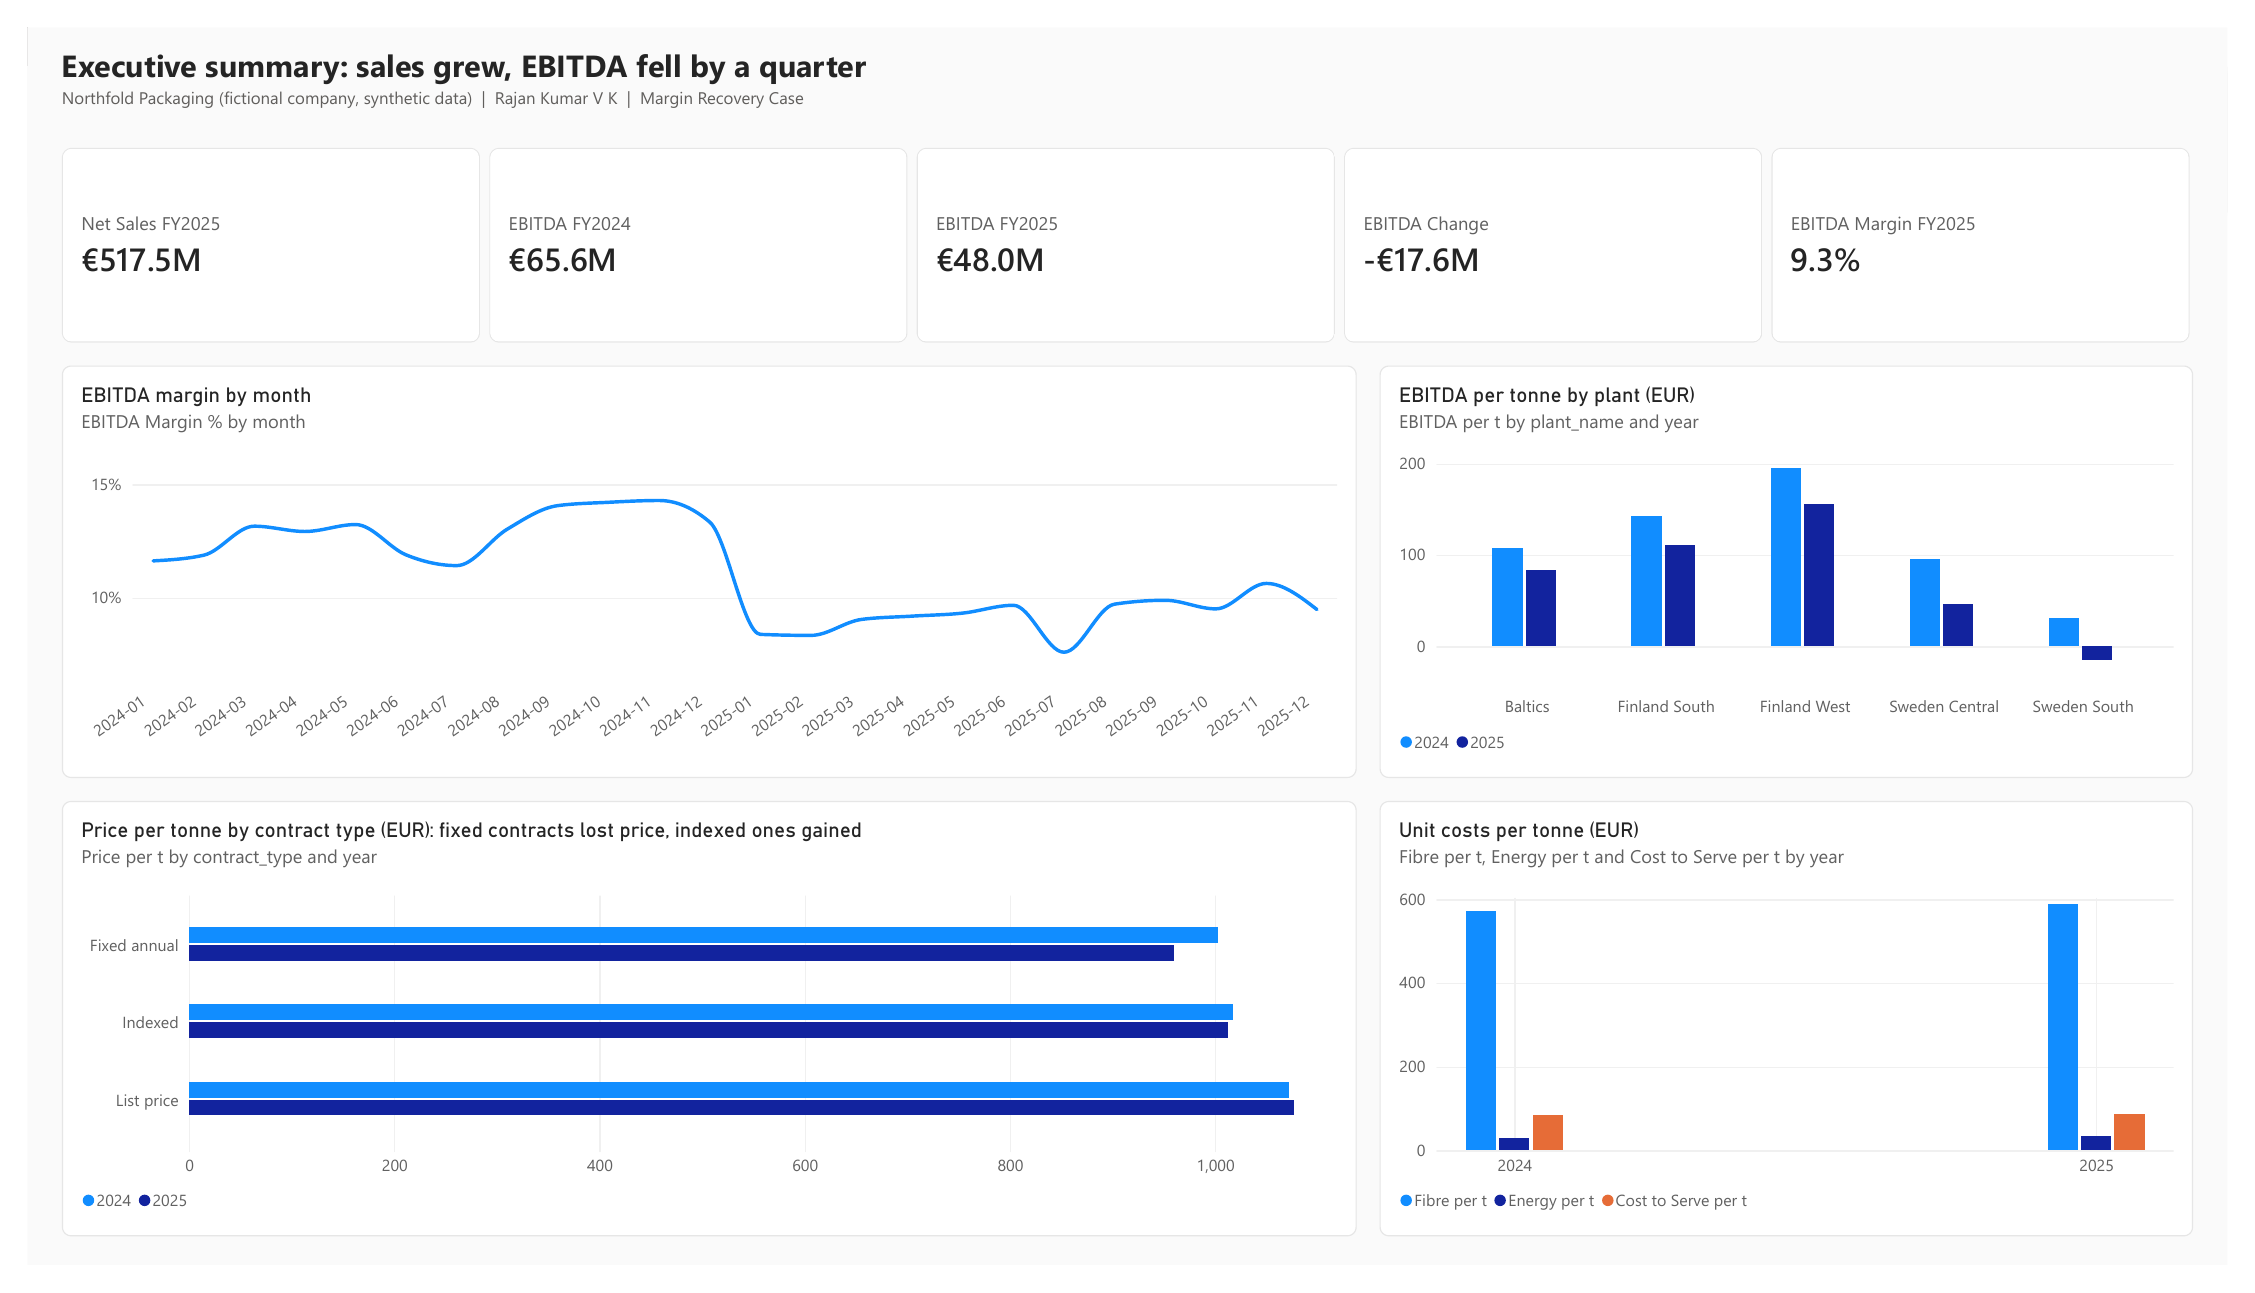

What the dashboard file says about the page in this screenshot:
{"tool":"powerbi","page":{"name":"1 Executive summary","canvas":[1920,1080],"ordinal":0},"visuals":[{"type":"textbox","box":[30,15,1860,80],"z":0},{"type":"cardVisual","fields":{"Data":["_Measures.Net Sales FY2025","_Measures.EBITDA FY2024","_Measures.EBITDA FY2025","_Measures.EBITDA Change","_Measures.EBITDA Margin FY2025"]},"box":[30,105,1860,170],"z":1},{"type":"lineChart","title":"EBITDA margin by month","fields":{"Category":["dim_date.month"],"Y":["_Measures.EBITDA Margin %"]},"box":[30,295,1130,360],"z":2},{"type":"clusteredColumnChart","title":"EBITDA per tonne by plant (EUR)","fields":{"Category":["dim_plant.plant_name"],"Series":["dim_date.year"],"Y":["_Measures.EBITDA per t"]},"box":[1180,295,710,360],"z":3},{"type":"clusteredBarChart","title":"Price per tonne by contract type (EUR): fixed contracts lost price, indexed ones gained","fields":{"Category":["dim_customer.contract_type"],"Series":["dim_date.year"],"Y":["_Measures.Price per t"]},"box":[30,675,1130,380],"z":4},{"type":"clusteredColumnChart","title":"Unit costs per tonne (EUR)","fields":{"Category":["dim_date.year"],"Y":["_Measures.Fibre per t","_Measures.Energy per t","_Measures.Cost to Serve per t"]},"box":[1180,675,710,380],"z":5}]}

Visuals, with their boxes in screenshot pixels (x1, y1, x2, y2), scaled from the page's 1920x1080 canvas onto the 2255x1293 screenshot:
textbox: <bbox>35, 18, 2220, 114</bbox>
cardVisual - _Measures.Net Sales FY2025 x _Measures.EBITDA FY2024: <bbox>35, 126, 2220, 329</bbox>
"EBITDA margin by month" lineChart: <bbox>35, 353, 1362, 784</bbox>
"EBITDA per tonne by plant (EUR)" clusteredColumnChart: <bbox>1386, 353, 2220, 784</bbox>
"Price per tonne by contract type (EUR): fixed contracts lost price, indexed ones gained" clusteredBarChart: <bbox>35, 808, 1362, 1263</bbox>
"Unit costs per tonne (EUR)" clusteredColumnChart: <bbox>1386, 808, 2220, 1263</bbox>
